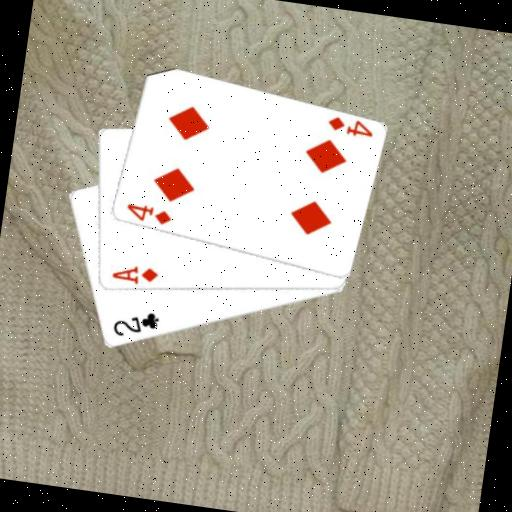2C: (109, 305, 162, 344)
4D: (121, 200, 174, 229), (323, 112, 376, 140)
AD: (108, 260, 161, 289)
